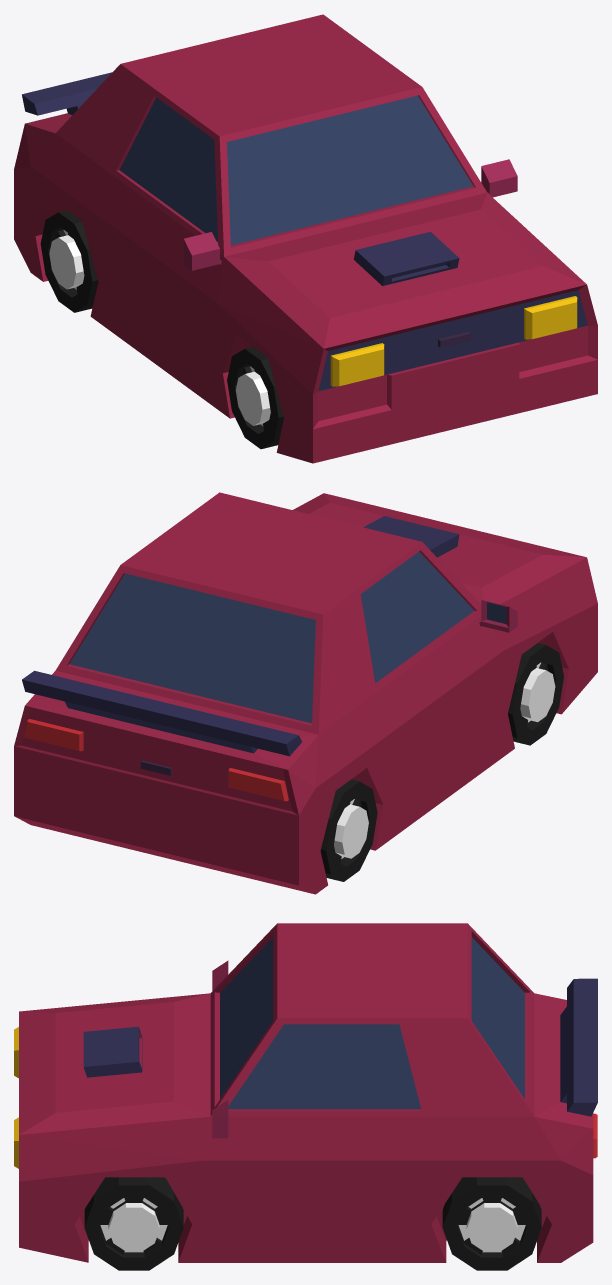
File: musclecar.obj
3 renders of one model, top to bottom at view 1: azimuth 30°, elevation 25°; view 2: azimuth 150°, elevation 25°; view 3: azimuth 270°, elevation 25°, orthographic. The views are drawn at different scales.
Visible parts, largest first — view 1: sports_Cube.006; view 2: sports_Cube.006; view 3: sports_Cube.006.
Boxes of the visible parts, x1,y1,x2,y2 form: sports_Cube.006: (14,14,597,463); sports_Cube.006: (14,492,597,894); sports_Cube.006: (14,923,597,1270).
Size of the model in its own units: 4.4 by 3.13 by 7.12.
